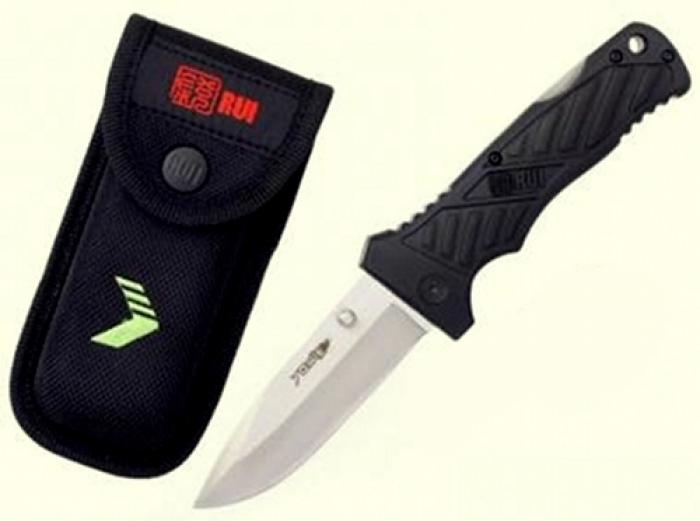knife: (186, 258, 445, 511)
